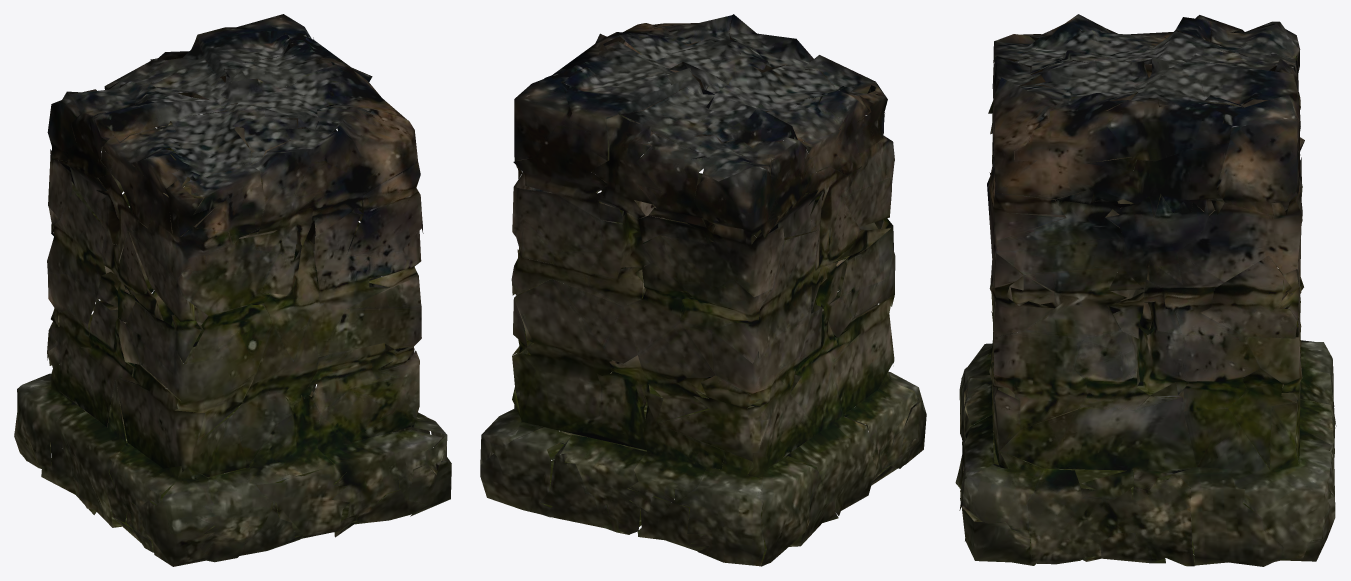
Rendered from ruin_ash.glb.
3 views of the same model, side by side, from view 1: azimuth 30°, elevation 25°; view 2: azimuth 150°, elevation 25°; view 3: azimuth 270°, elevation 25° (orthographic). The views are drawn at different scales.
Visible parts, largest first — view 1: ruin_ash_p2; view 2: ruin_ash_p2; view 3: ruin_ash_p2.
Part boxes in pixels (box(x1,y1,x2,y2)): ruin_ash_p2: box(14, 14, 451, 566); ruin_ash_p2: box(480, 14, 926, 566); ruin_ash_p2: box(955, 14, 1336, 566).
Bounding box in the file's own units: 0.9929 × 1.3 × 0.9988.
1 material, 1 textured.
